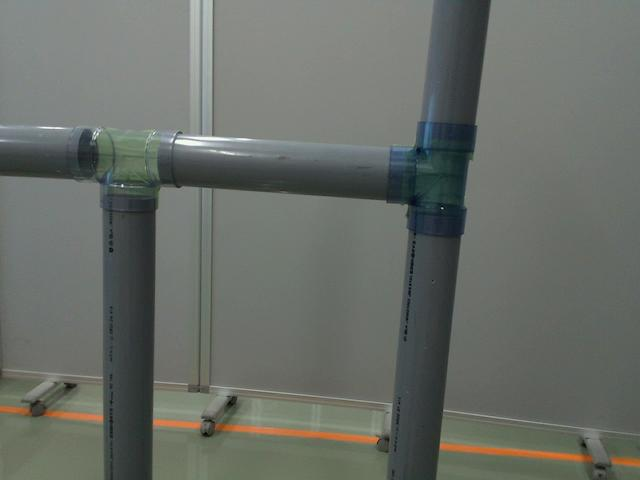junction: (66, 122, 193, 214), (389, 120, 478, 236)
